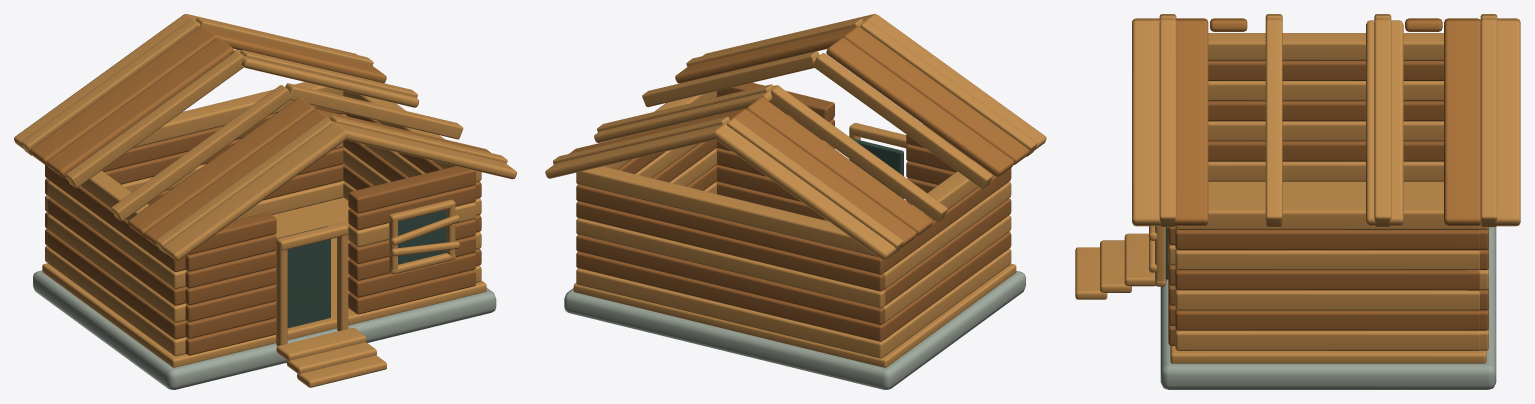
Rendered from cabin.glb.
3 renders of one model, left to right at view 1: azimuth 30°, elevation 25°; view 2: azimuth 150°, elevation 25°; view 3: azimuth 270°, elevation 25°, orthographic. The views are drawn at different scales.
Visible parts, largest first — view 1: stone_foundation, wood_floor, roof_board.003, roof_board, roof_board.002, roof_board.004, roof_rafter.002, roof_rafter.004, door_shadow, front_right.006, roof_rafter.003, roof_board.001 (+54 smaller); view 2: stone_foundation, back_log.006, back_log.004, back_log, back_log.003, back_log.002, back_log.001, back_log.005, roof_board.002, wood_floor, roof_board.003, roof_board.005 (+35 smaller); view 3: stone_foundation, wood_floor, roof_board.009, roof_board.007, side_log.009, side_log.011, side_log.005, side_log.007, side_log.001, side_log.003, roof_board.006, side_log.013 (+19 smaller).
Part boxes in pixels (bbox=[...]): stone_foundation: bbox=[33, 270, 496, 389]; wood_floor: bbox=[42, 197, 486, 367]; roof_board.003: bbox=[46, 38, 233, 177]; roof_board: bbox=[163, 121, 346, 260]; roof_board.002: bbox=[128, 97, 315, 237]; roof_board.004: bbox=[30, 26, 215, 165]; roof_rafter.002: bbox=[111, 85, 290, 221]; roof_rafter.004: bbox=[66, 51, 243, 188]; door_shadow: bbox=[277, 226, 330, 328]; front_right.006: bbox=[348, 166, 475, 213]; roof_rafter.003: bbox=[285, 83, 463, 139]; roof_board.001: bbox=[144, 109, 329, 247]; stone_foundation: bbox=[564, 270, 1025, 389]; back_log.006: bbox=[576, 166, 878, 257]; back_log.004: bbox=[576, 201, 885, 291]; back_log: bbox=[576, 268, 885, 358]; back_log.003: bbox=[576, 218, 885, 308]; back_log.002: bbox=[576, 234, 885, 324]; back_log.001: bbox=[576, 251, 885, 341]; back_log.005: bbox=[576, 184, 885, 274]; roof_board.002: bbox=[826, 38, 1013, 176]; wood_floor: bbox=[573, 263, 1016, 367]; roof_board.003: bbox=[746, 97, 932, 236]; roof_board.005: bbox=[714, 121, 896, 260]; stone_foundation: bbox=[1160, 227, 1496, 389]; wood_floor: bbox=[1170, 181, 1486, 363]; roof_board.009: bbox=[1444, 20, 1480, 226]; roof_board.007: bbox=[1174, 20, 1208, 226]; side_log.009: bbox=[1175, 249, 1480, 270]; side_log.011: bbox=[1175, 229, 1479, 250]; side_log.005: bbox=[1175, 289, 1480, 310]; side_log.007: bbox=[1175, 269, 1480, 290]; side_log.001: bbox=[1175, 329, 1480, 350]; side_log.003: bbox=[1175, 309, 1480, 330]; roof_board.006: bbox=[1132, 20, 1161, 226]; side_log.013: bbox=[1175, 202, 1480, 229].
Size of the model in its own units: 9.7 by 6.23 by 9.02.
